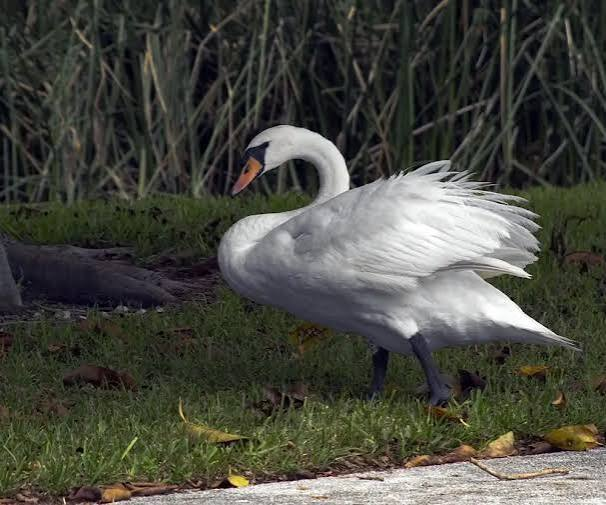swan: (219, 127, 581, 409)
